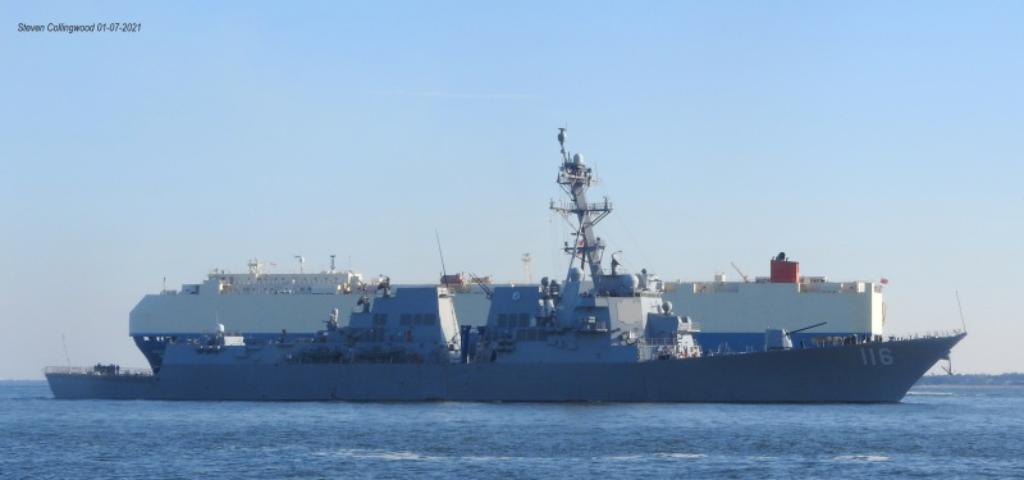Warship: (39, 125, 969, 407)
